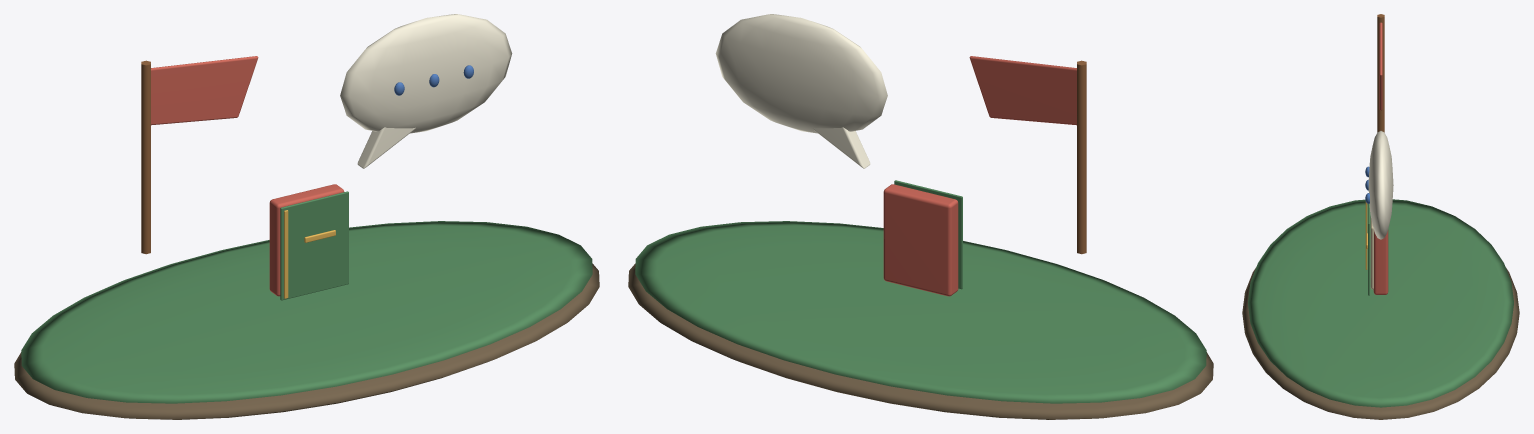
Rendered from complete-first-chinese-language.glb.
The picture shows the model from 3 angles, left to right: view 1: azimuth 30°, elevation 25°; view 2: azimuth 150°, elevation 25°; view 3: azimuth 270°, elevation 25°; orthographic projection. The views are drawn at different scales.
Visible parts, largest first — view 1: complete-first-chinese-language_surface_01, complete-first-chinese-language_surface_04, complete-first-chinese-language_surface_00, complete-first-chinese-language_surface_03, complete-first-chinese-language_surface_02, complete-first-chinese-language_surface_07; view 2: complete-first-chinese-language_surface_01, complete-first-chinese-language_surface_04, complete-first-chinese-language_surface_03, complete-first-chinese-language_surface_00, complete-first-chinese-language_surface_02; view 3: complete-first-chinese-language_surface_01, complete-first-chinese-language_surface_00, complete-first-chinese-language_surface_04, complete-first-chinese-language_surface_03, complete-first-chinese-language_surface_02, complete-first-chinese-language_surface_06.
Boxes of the visible parts, box(x1,y1,x2,y2) form: complete-first-chinese-language_surface_01: box(21, 191, 592, 403); complete-first-chinese-language_surface_04: box(340, 14, 512, 168); complete-first-chinese-language_surface_00: box(14, 263, 599, 419); complete-first-chinese-language_surface_03: box(151, 56, 344, 296); complete-first-chinese-language_surface_02: box(141, 60, 150, 254); complete-first-chinese-language_surface_07: box(284, 210, 335, 298); complete-first-chinese-language_surface_01: box(635, 180, 1206, 403); complete-first-chinese-language_surface_04: box(715, 14, 887, 168); complete-first-chinese-language_surface_03: box(883, 56, 1076, 296); complete-first-chinese-language_surface_00: box(628, 263, 1213, 419); complete-first-chinese-language_surface_02: box(1077, 60, 1086, 254); complete-first-chinese-language_surface_01: box(1248, 199, 1513, 407); complete-first-chinese-language_surface_00: box(1242, 268, 1519, 419); complete-first-chinese-language_surface_04: box(1368, 131, 1393, 239); complete-first-chinese-language_surface_03: box(1373, 22, 1388, 294); complete-first-chinese-language_surface_02: box(1377, 14, 1384, 132); complete-first-chinese-language_surface_06: box(1370, 216, 1373, 289).
Size of the model in its own units: 4.56 by 2.47 by 2.5.
